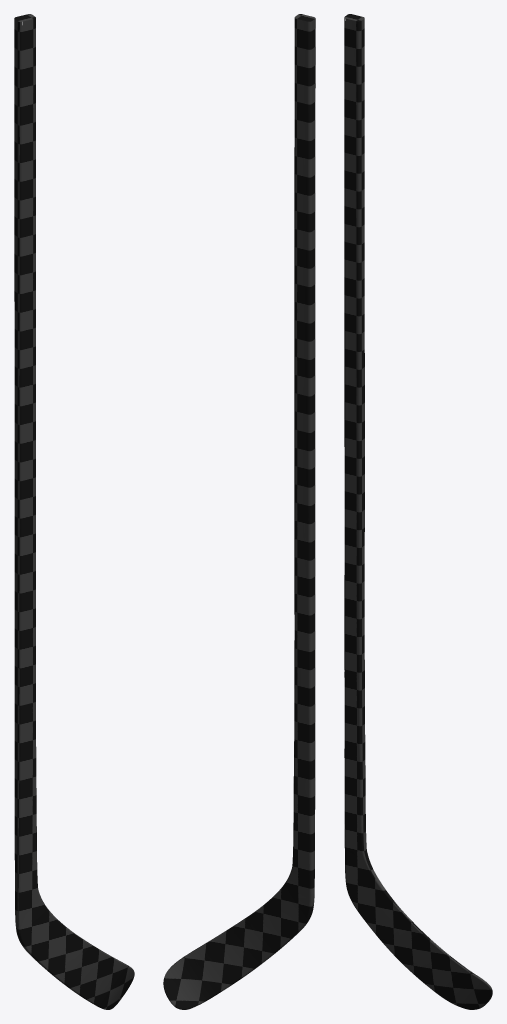
3 views of the same model, side by side, from view 1: azimuth 30°, elevation 25°; view 2: azimuth 150°, elevation 25°; view 3: azimuth 330°, elevation 25° (orthographic). The views are drawn at different scales.
Parts seen in each view (by area): view 1: geometry_0; view 2: geometry_0; view 3: geometry_0.
Boxes of the visible parts, box(x1,y1,x2,y2) form: geometry_0: box(14, 14, 134, 1009); geometry_0: box(163, 14, 315, 1009); geometry_0: box(344, 14, 492, 1009).
Bounding box in the file's own units: 227 × 1650 × 70.78.
Materials: 1 (1 with a texture image).
